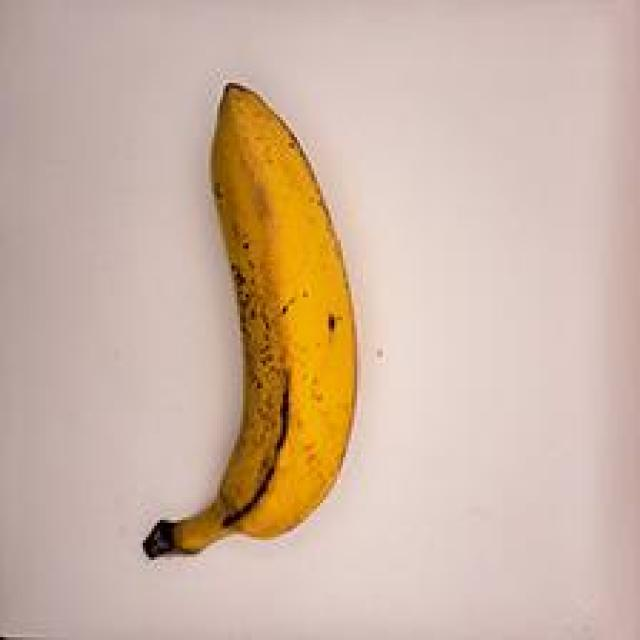Overripe: (127, 48, 391, 593)
